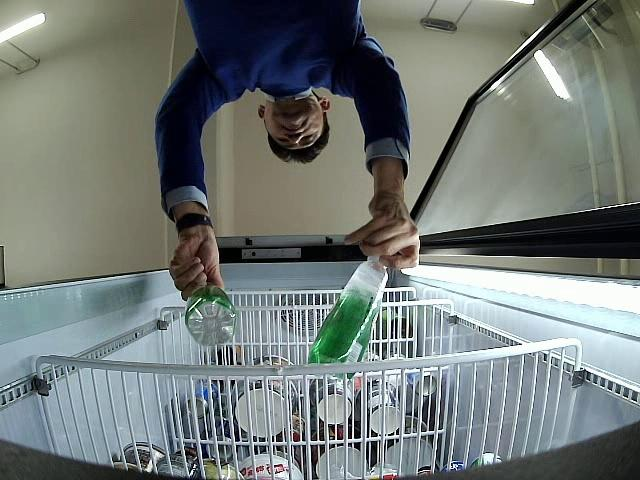00_hand: (344, 176, 419, 269), (169, 235, 225, 301)
18_trevi: (310, 256, 387, 379), (186, 283, 237, 345)
